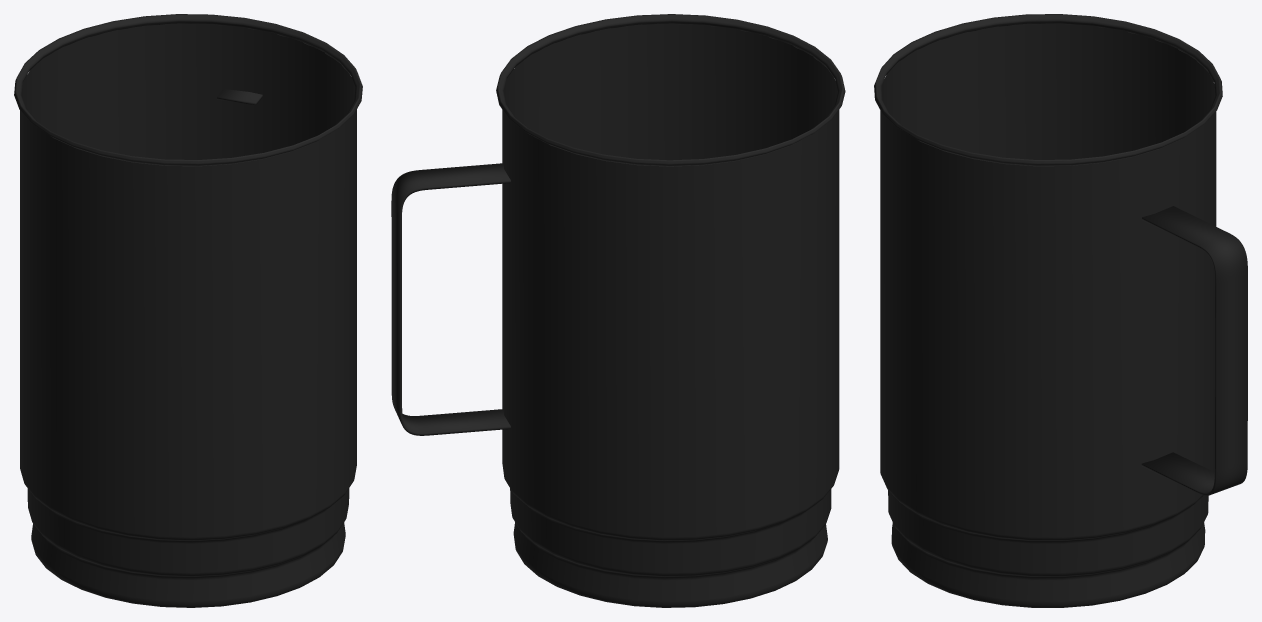
The picture shows the model from 3 angles, left to right: view 1: azimuth 30°, elevation 25°; view 2: azimuth 150°, elevation 25°; view 3: azimuth 270°, elevation 25°; orthographic projection.
Visible parts, largest first — view 1: MUG, Cylinder.002, ALCA; view 2: MUG, ALCA, Cylinder.002; view 3: MUG, ALCA, Cylinder.002.
Boxes of the visible parts, <box> form: MUG: <box>20,23,356,607</box>; Cylinder.002: <box>14,14,362,166</box>; ALCA: <box>217,89,262,105</box>; MUG: <box>502,23,839,607</box>; ALCA: <box>391,163,510,435</box>; Cylinder.002: <box>496,14,845,166</box>; MUG: <box>880,23,1216,607</box>; ALCA: <box>1141,206,1247,495</box>; Cylinder.002: <box>874,14,1222,166</box>.
Size of the model in its own units: 2.82 by 3.55 by 2.64.
2 materials, 2 textured.
